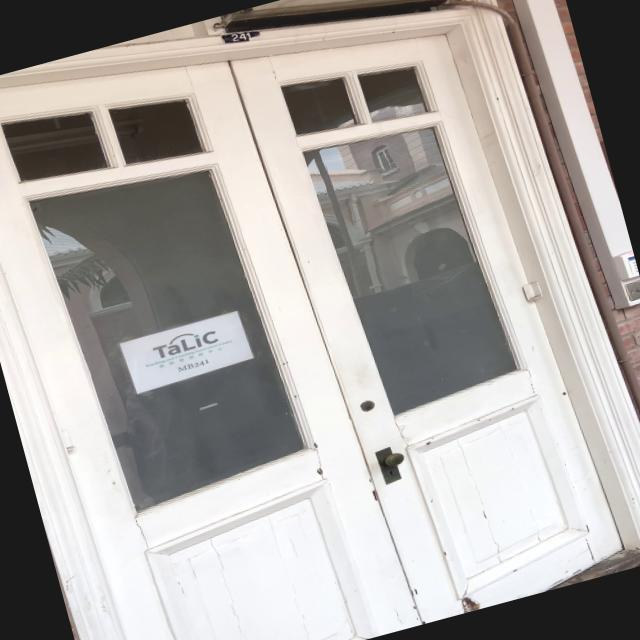room241: (220, 22, 264, 50)
